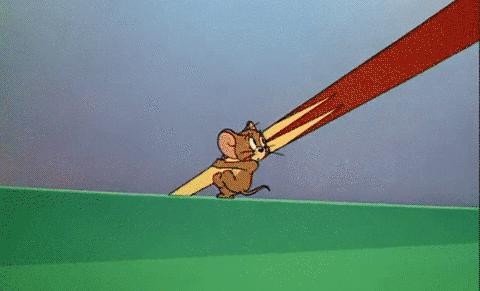jerry: (210, 120, 278, 200)
